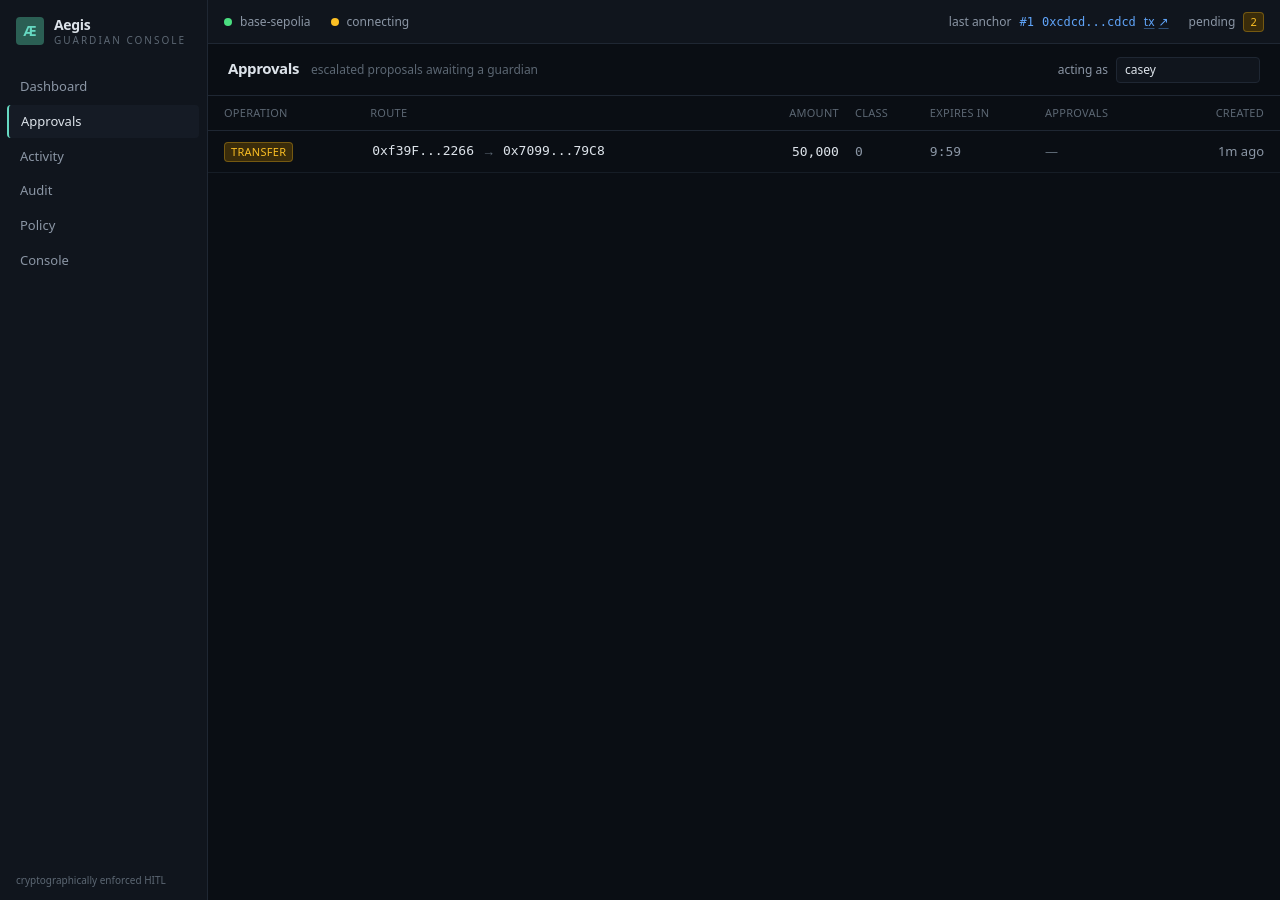
ApprovalsPage › approves with a required comment and removes the row
The image size is (1280, 900).
Click the row with test id "proposal-dec-1": (744, 152) [208,130,1279,173]
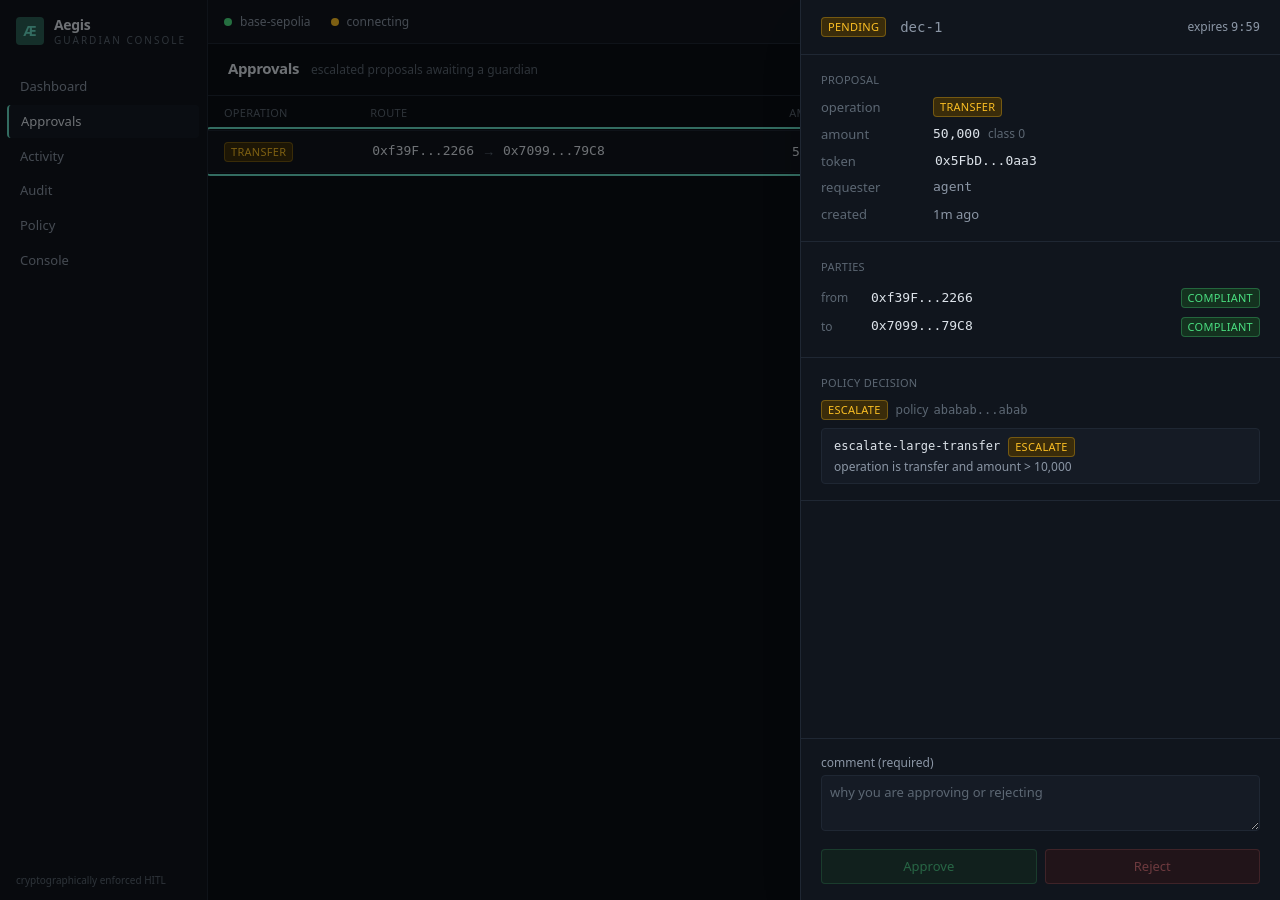
Check: the text "escalate-large-transfer" is shown, box [834,437,1000,456]
Check: the text "operation is transfer and amount > 10,000" is shown, box [834,458,1072,475]
Check: the text "compliant" is shown 2 times, box [1181,288,1260,308]; [1181,317,1260,337]
In the text box labelled "comment (required)": (1040, 803) [821,775,1260,831], type "looks legit"
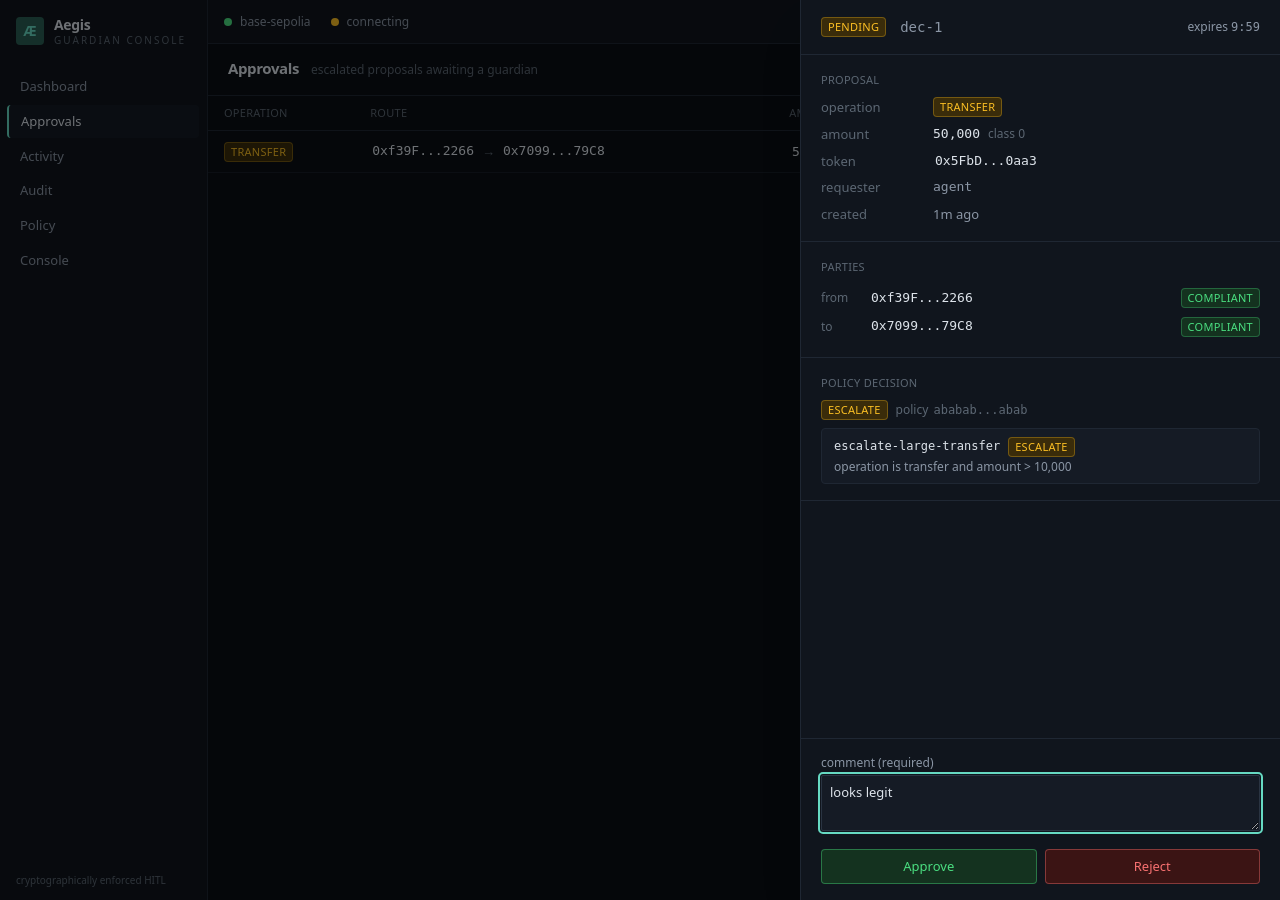
Click the button "Approve": (929, 867) [821,849,1036,884]
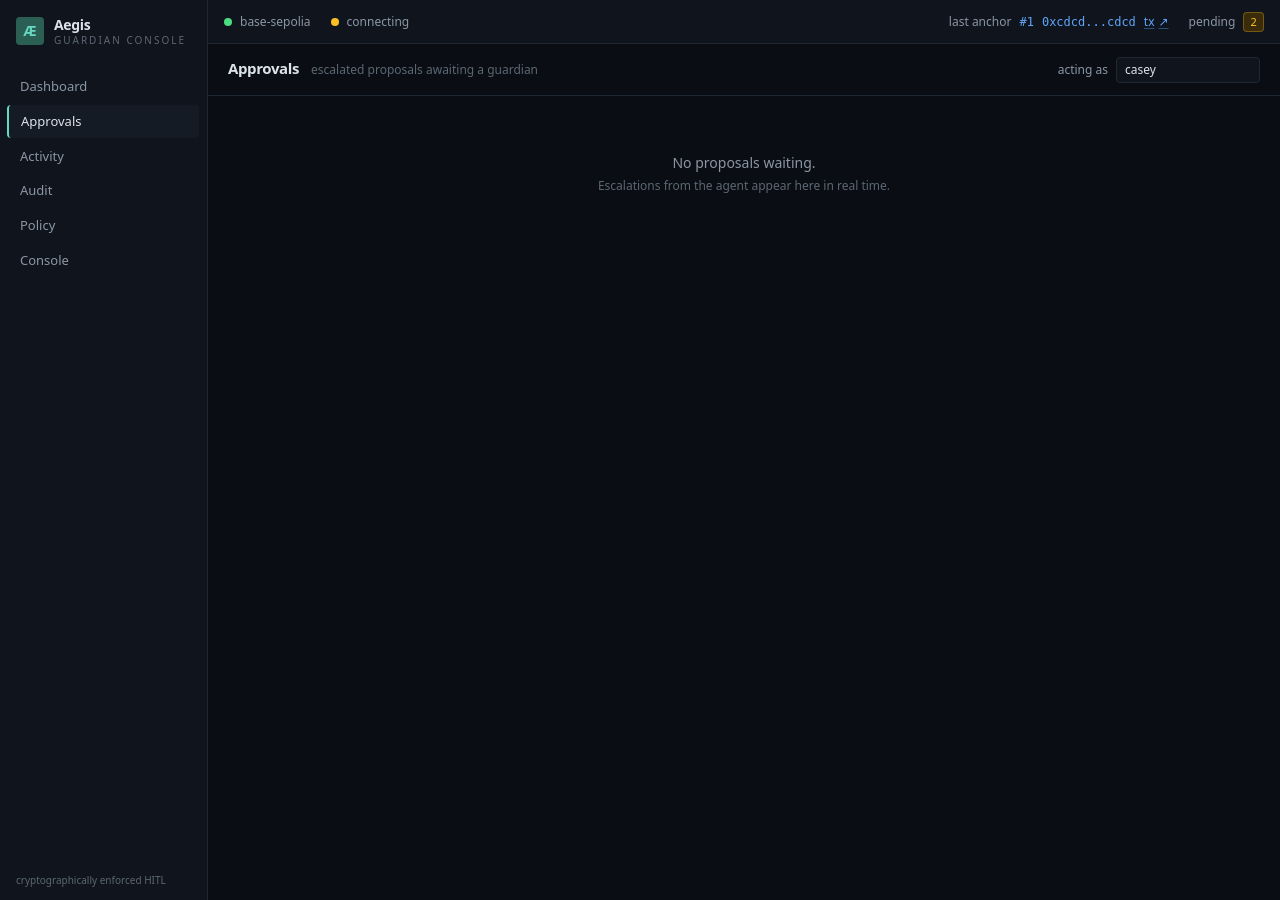
Check: the dialog is gone
Check: the row with test id "proposal-dec-1" is gone
